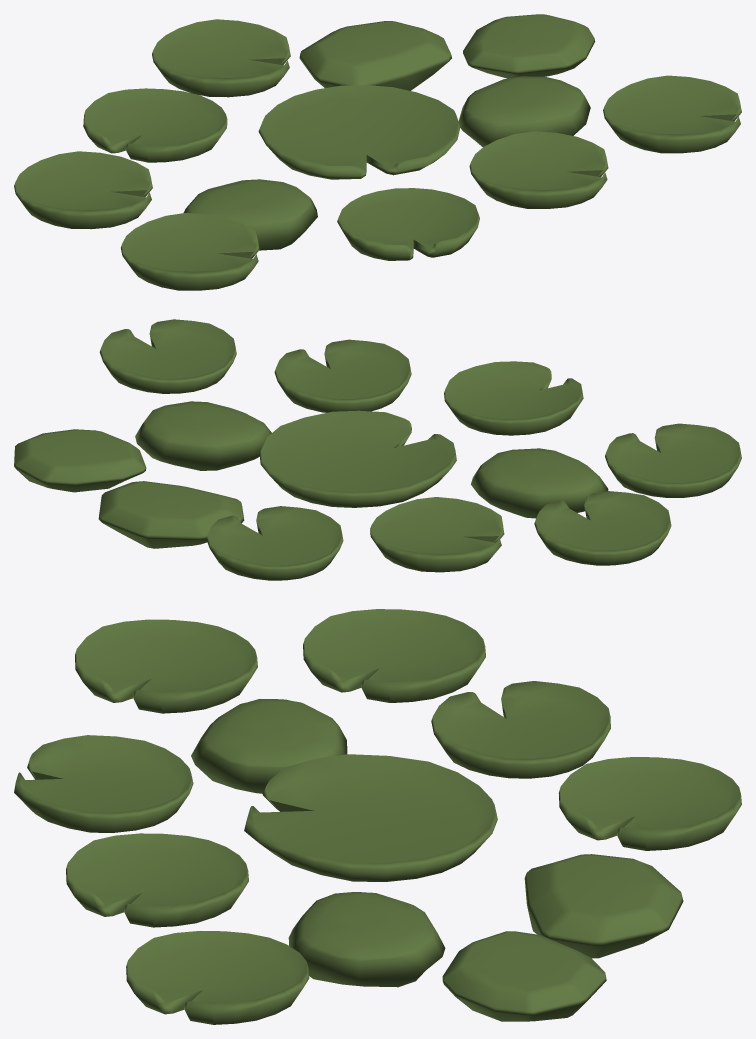
File: Plateformes.fbx
The picture shows the model from 3 angles, top to bottom: view 1: azimuth 30°, elevation 25°; view 2: azimuth 150°, elevation 25°; view 3: azimuth 270°, elevation 25°; orthographic projection. The views are drawn at different scales.
Visible parts, largest first — view 1: polySurface438, polySurface441, polySurface435, polySurface440, polySurface437, polySurface436, polySurface439, polySurface434, polySurface442, rock101, rock55, rock92; view 2: polySurface438, polySurface439, polySurface434, polySurface440, polySurface436, polySurface441, polySurface437, polySurface435, rock101, polySurface442, rock92, rock55; view 3: polySurface438, polySurface435, polySurface437, polySurface436, polySurface440, polySurface441, polySurface434, polySurface439, polySurface442, rock101, rock55, rock92.
Boxes of the visible parts, bbox=[...] form: polySurface438: bbox=[258, 85, 460, 179]; polySurface441: bbox=[603, 75, 741, 153]; polySurface435: bbox=[469, 131, 608, 208]; polySurface440: bbox=[152, 19, 290, 97]; polySurface437: bbox=[121, 213, 259, 290]; polySurface436: bbox=[14, 151, 152, 229]; polySurface439: bbox=[83, 88, 227, 162]; polySurface434: bbox=[337, 188, 479, 260]; polySurface442: bbox=[299, 21, 451, 90]; rock101: bbox=[458, 76, 590, 146]; rock55: bbox=[463, 14, 595, 78]; rock92: bbox=[183, 179, 317, 250]; polySurface438: bbox=[259, 410, 456, 507]; polySurface439: bbox=[370, 497, 504, 572]; polySurface434: bbox=[444, 361, 583, 435]; polySurface440: bbox=[206, 506, 343, 580]; polySurface436: bbox=[534, 491, 671, 565]; polySurface441: bbox=[99, 319, 236, 393]; polySurface437: bbox=[605, 423, 741, 497]; polySurface435: bbox=[274, 339, 411, 412]; rock101: bbox=[135, 401, 271, 470]; polySurface442: bbox=[98, 481, 244, 548]; rock92: bbox=[471, 448, 608, 518]; rock55: bbox=[14, 429, 146, 492]; polySurface438: bbox=[244, 754, 497, 881]; polySurface435: bbox=[66, 833, 248, 927]; polySurface437: bbox=[75, 619, 257, 713]; polySurface436: bbox=[303, 609, 485, 702]; polySurface440: bbox=[558, 757, 741, 850]; polySurface441: bbox=[126, 931, 309, 1024]; polySurface434: bbox=[14, 735, 193, 832]; polySurface439: bbox=[431, 681, 610, 778]; polySurface442: bbox=[524, 854, 683, 958]; rock101: bbox=[288, 892, 445, 987]; rock55: bbox=[442, 931, 606, 1021]; rock92: bbox=[191, 699, 347, 793].
Size of the model in its own units: 1256 by 81.85 by 970.
